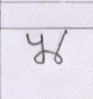ai_matra: (26, 32, 50, 62)
